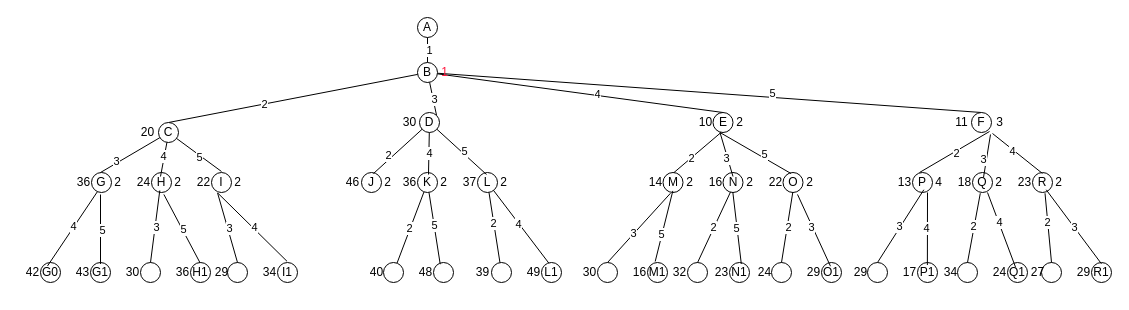
Some shapes in this 1129 by 310 pixel diagram are drawn without their labels. Here are the shapes that lost their labels. From the top down, the centre of each, then its label:
the point at 150,272: H0
the point at 237,272: I0
the point at 393,272: K0
the point at 443,272: K1
the point at 501,272: L0
the point at 607,272: M0
the point at 697,272: N0
the point at 781,272: O0
the point at 877,272: P0
the point at 967,272: Q0
the point at 1051,272: R0
